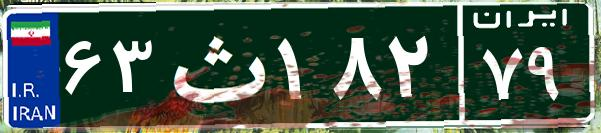1: (273, 28, 330, 110)
2: (385, 28, 445, 110)
3: (110, 28, 158, 105)
6: (57, 26, 110, 107)
7: (475, 38, 525, 113)
8: (330, 28, 385, 110)
9: (525, 38, 570, 115)
ث: (158, 15, 273, 115)
